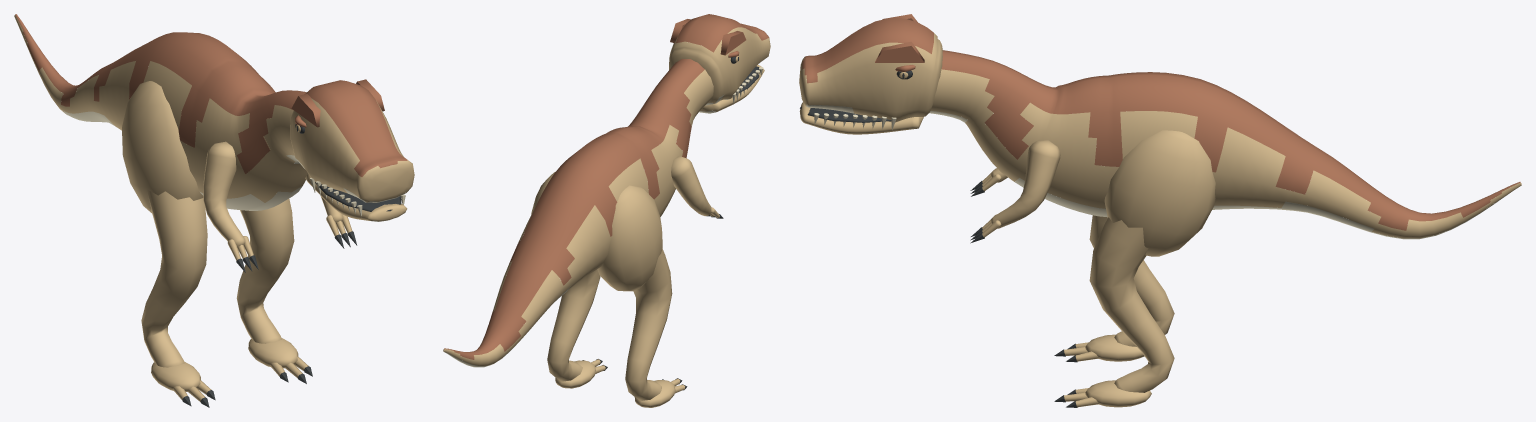
Rendered from primeval-frontier-allosaurus-bc6c0128__1683.glb.
3 renders of one model, left to right at view 1: azimuth 30°, elevation 25°; view 2: azimuth 150°, elevation 25°; view 3: azimuth 270°, elevation 25°, orthographic. The views are drawn at different scales.
Visible parts, largest first — view 1: allosaurus; view 2: allosaurus; view 3: allosaurus.
Part boxes in pixels (x1,y1,x2,y2): allosaurus: [14, 14, 414, 407]; allosaurus: [443, 14, 770, 407]; allosaurus: [799, 14, 1521, 407].
Size of the model in its own units: 1.58 by 4 by 7.32.
